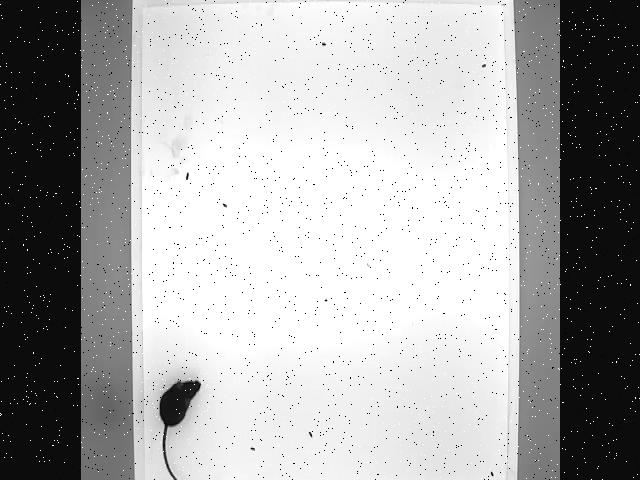Tikus: (157, 379, 200, 480)
